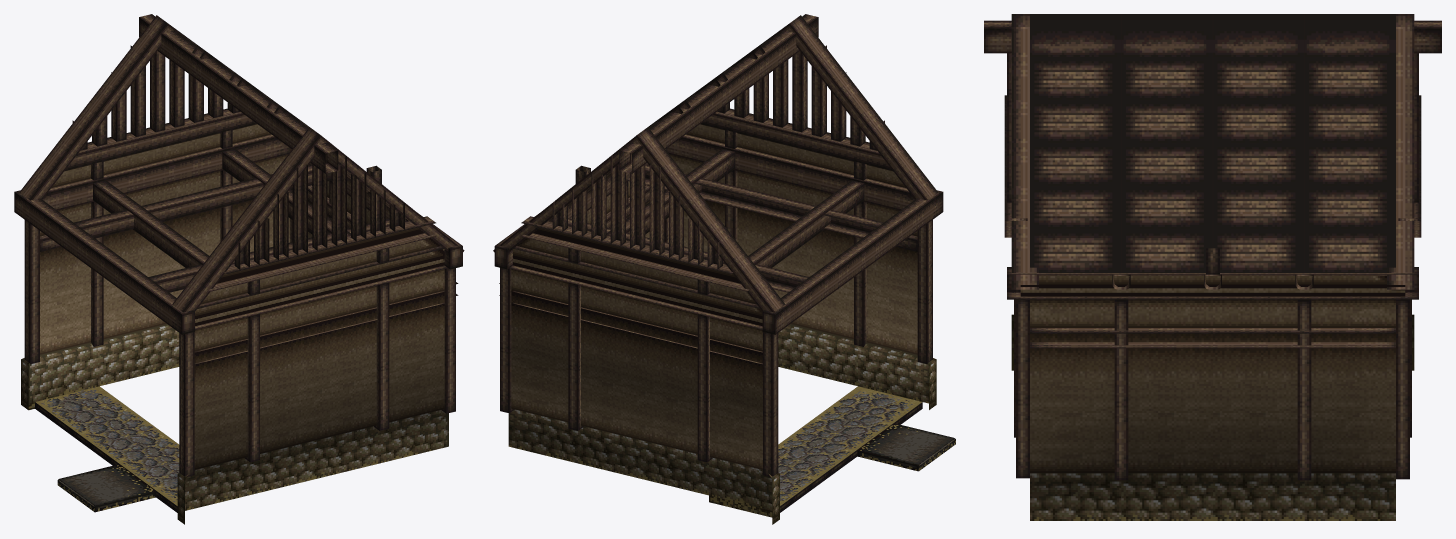
File: EnvBdgMD_Desert_A_Indoor_House_B.FBX
The picture shows the model from 3 angles, left to right: view 1: azimuth 30°, elevation 25°; view 2: azimuth 150°, elevation 25°; view 3: azimuth 270°, elevation 25°; orthographic projection. The views are drawn at different scales.
Parts seen in each view (by area): view 1: EnvBdgMD_Desert_A_Indoor_House_B; view 2: EnvBdgMD_Desert_A_Indoor_House_B; view 3: EnvBdgMD_Desert_A_Indoor_House_B.
Boxes of the visible parts, x1,y1,x2,y2 form: EnvBdgMD_Desert_A_Indoor_House_B: (14, 14, 464, 524); EnvBdgMD_Desert_A_Indoor_House_B: (493, 14, 955, 524); EnvBdgMD_Desert_A_Indoor_House_B: (984, 14, 1441, 520).
Bounding box in the file's own units: 1040 × 1056 × 1000.
